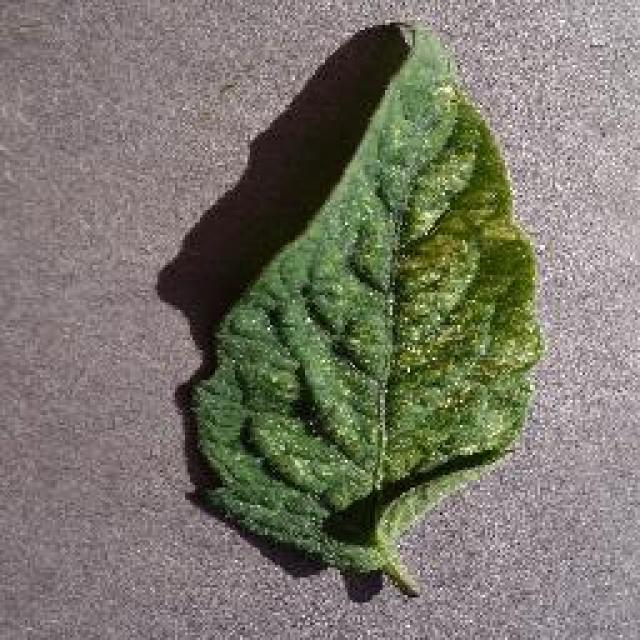Tom_Spider_mites Two-spotted_spider_mite: (377, 100, 538, 446)
